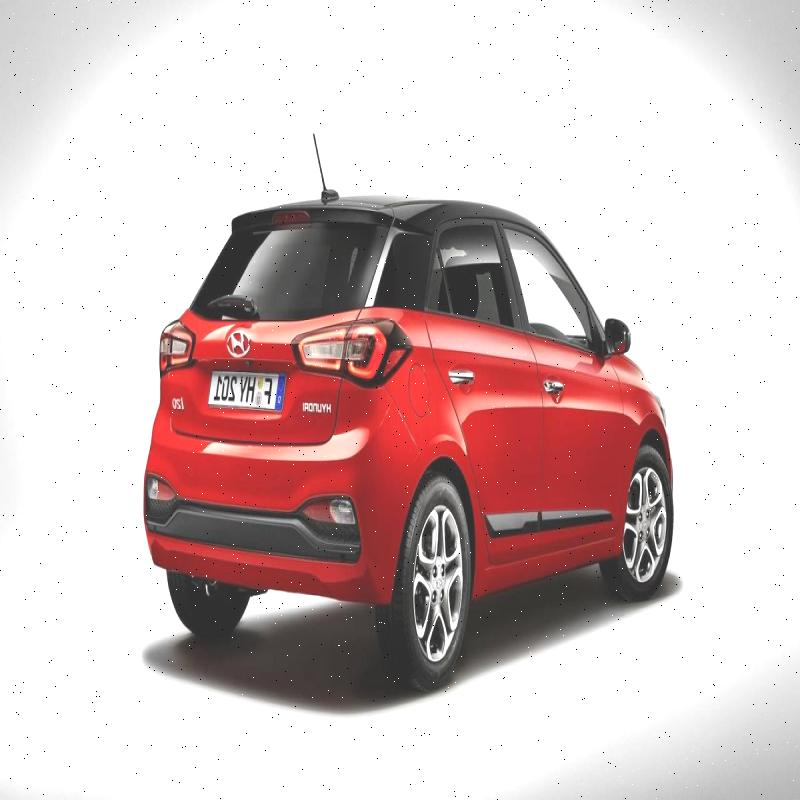car: (136, 166, 691, 670)
